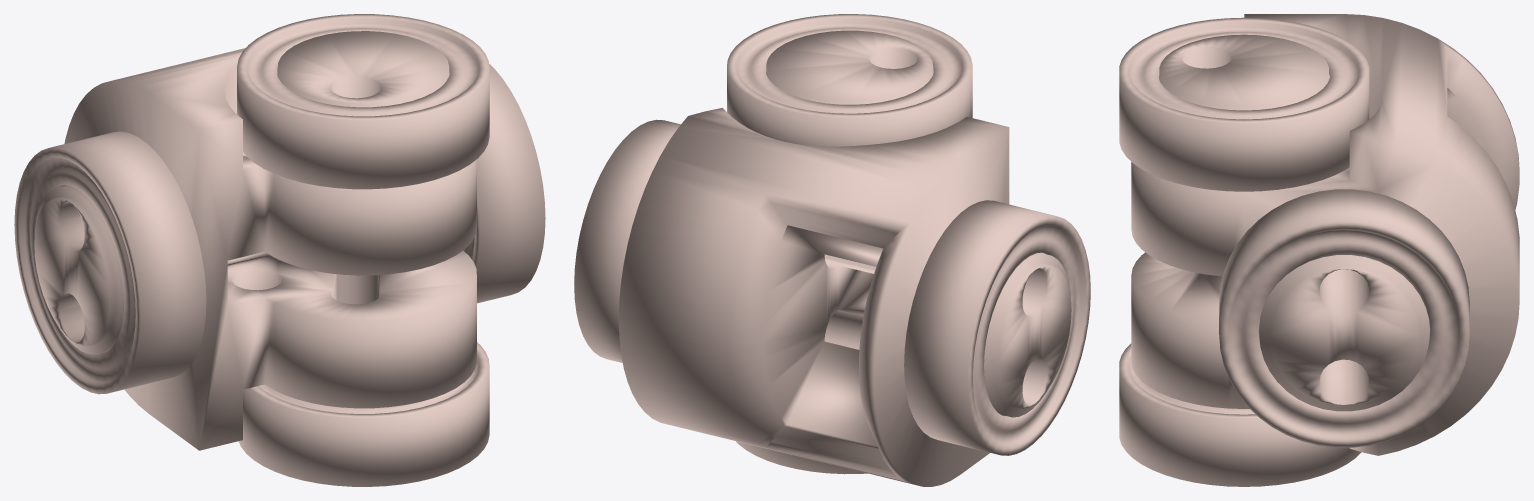
File: middle_knuckle_1.obj
The picture shows the model from 3 angles, left to right: view 1: azimuth 30°, elevation 25°; view 2: azimuth 150°, elevation 25°; view 3: azimuth 270°, elevation 25°; orthographic projection. The views are drawn at different scales.
Size of the model in its own units: 19 by 16 by 15.99.
